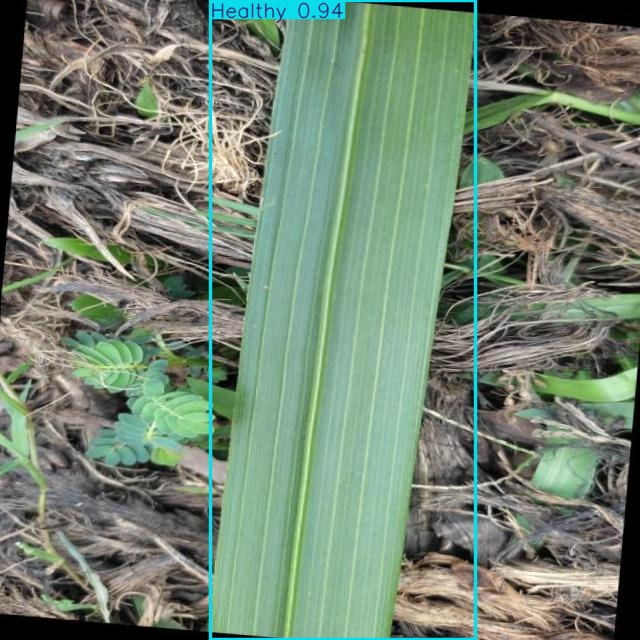Healthy: (210, 0, 476, 640)
